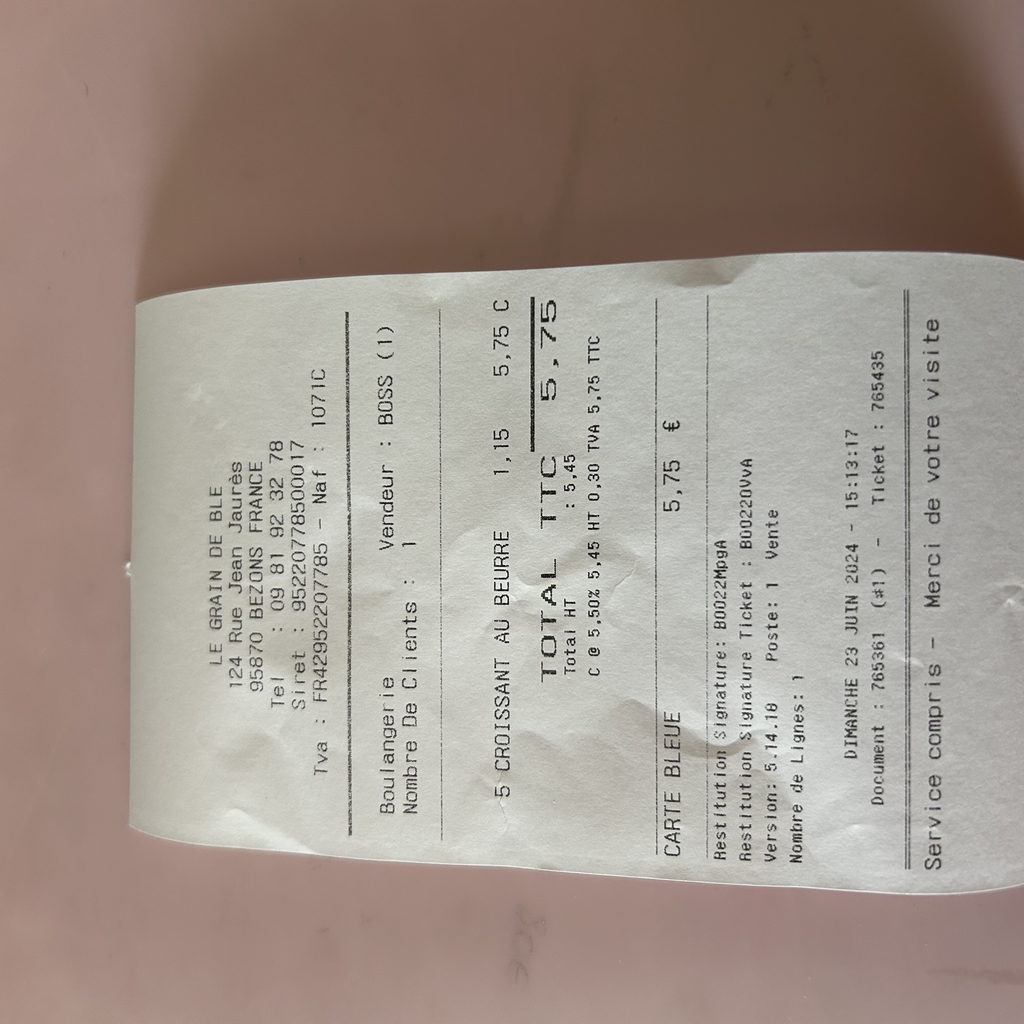recipt: (130, 249, 1024, 892)
